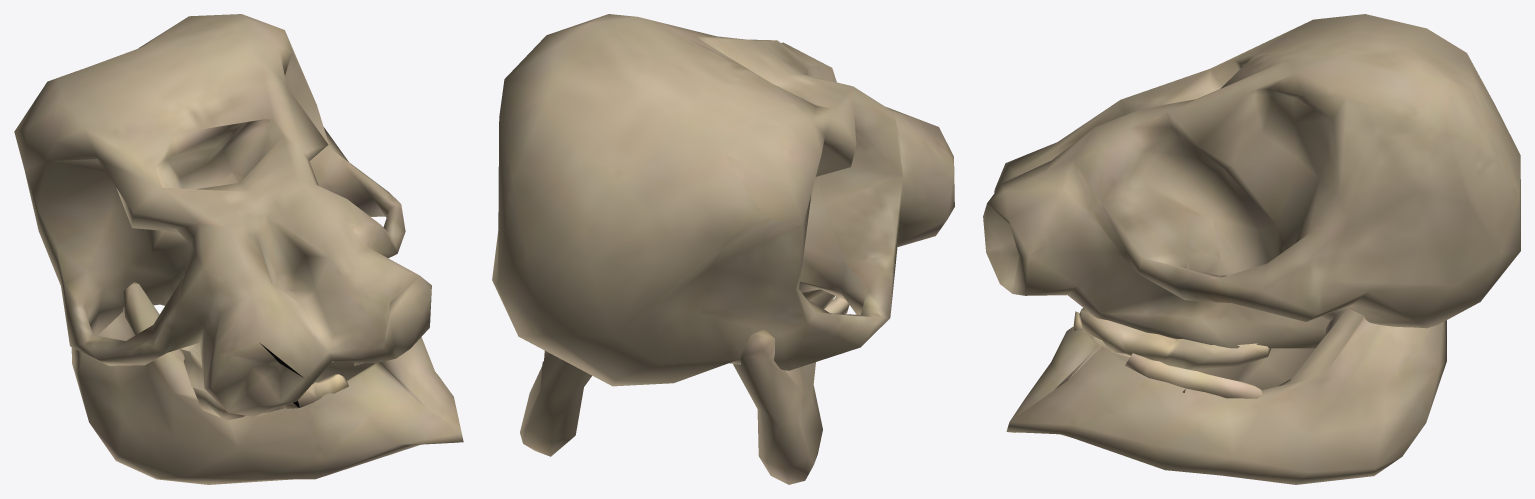
File: elephant_skull.glb
3 views of the same model, side by side, from view 1: azimuth 30°, elevation 25°; view 2: azimuth 150°, elevation 25°; view 3: azimuth 270°, elevation 25° (orthographic). The views are drawn at different scales.
Parts seen in each view (by area): view 1: PM3D_Sphere3D1_9.003_part1; view 2: PM3D_Sphere3D1_9.003_part1; view 3: PM3D_Sphere3D1_9.003_part1.
Part boxes in pixels (x1,y1,x2,y2): PM3D_Sphere3D1_9.003_part1: (14, 14, 463, 484); PM3D_Sphere3D1_9.003_part1: (492, 14, 954, 484); PM3D_Sphere3D1_9.003_part1: (983, 14, 1520, 484).
Bounding box in the file's own units: 0.8461 × 1.02 × 1.18.
1 material, 1 textured.
